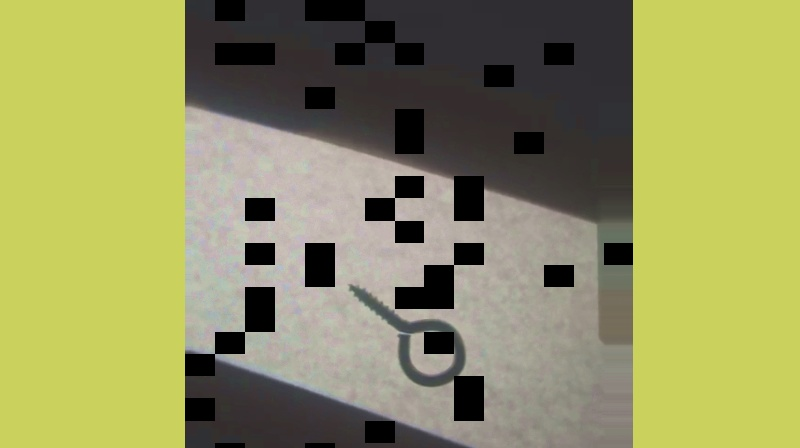O001: (345, 280, 470, 391)
